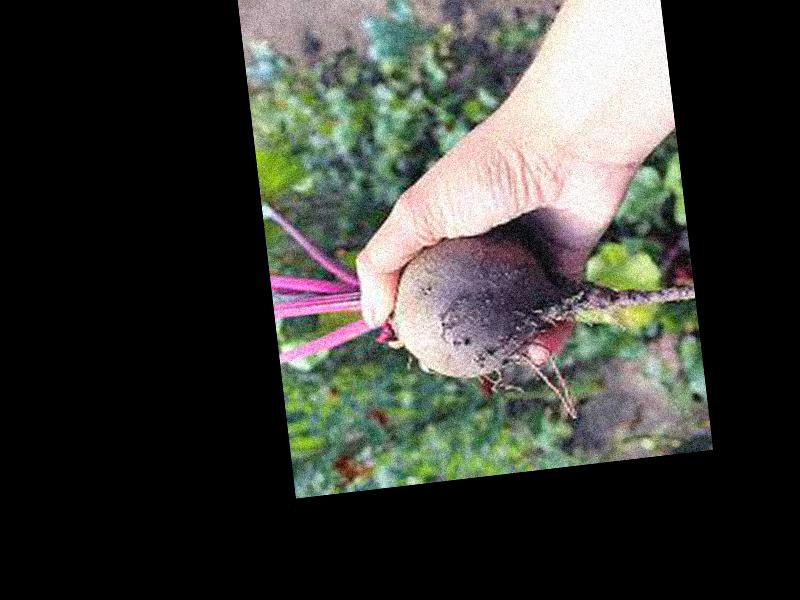Beet: (263, 152, 708, 454)
